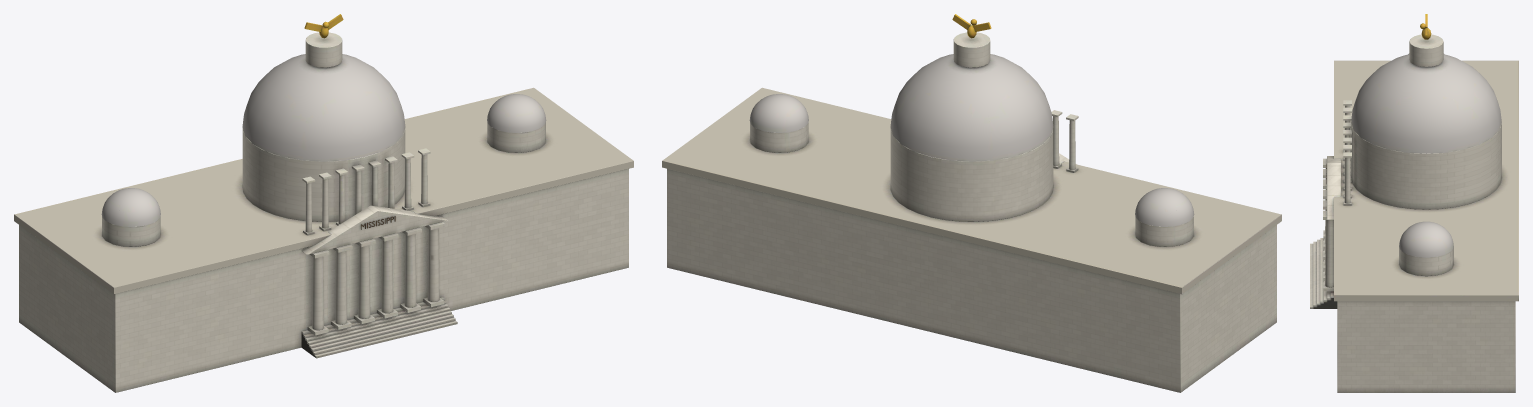
File: capitolio_ms.glb
The picture shows the model from 3 angles, left to right: view 1: azimuth 30°, elevation 25°; view 2: azimuth 150°, elevation 25°; view 3: azimuth 270°, elevation 25°; orthographic projection. The views are drawn at different scales.
Visible parts, largest first — view 1: capitolio_ms; view 2: capitolio_ms; view 3: capitolio_ms.
Part boxes in pixels (<box>): capitolio_ms: <box>14,14,633,392</box>; capitolio_ms: <box>662,14,1281,392</box>; capitolio_ms: <box>1310,14,1518,392</box>.
Bounding box in the file's own units: 81 × 41.17 × 30.5.
1 material, 1 textured.
